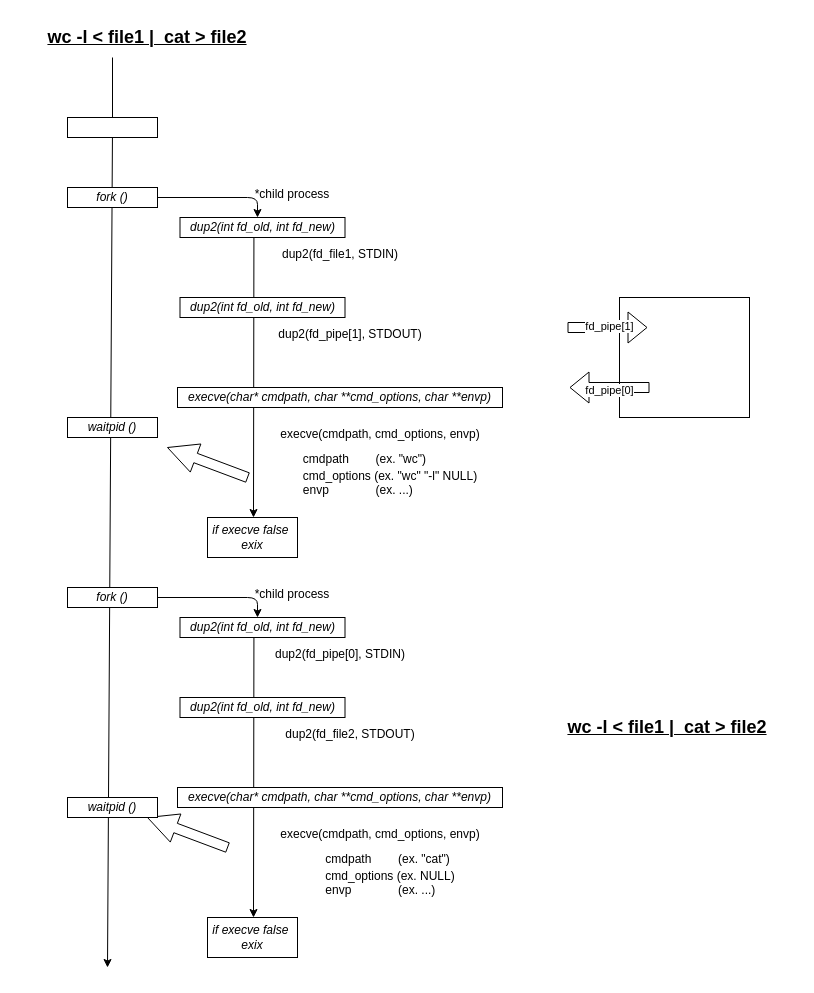
The diagram is 814 pixels wide and 993 high, and some of its shapes have lost their labels. The box of each missing label's shape, as (x1, y1, x2, y2) in pixels:
pipe: (618, 296, 750, 418)
pipe (int *fd): (66, 116, 158, 138)
